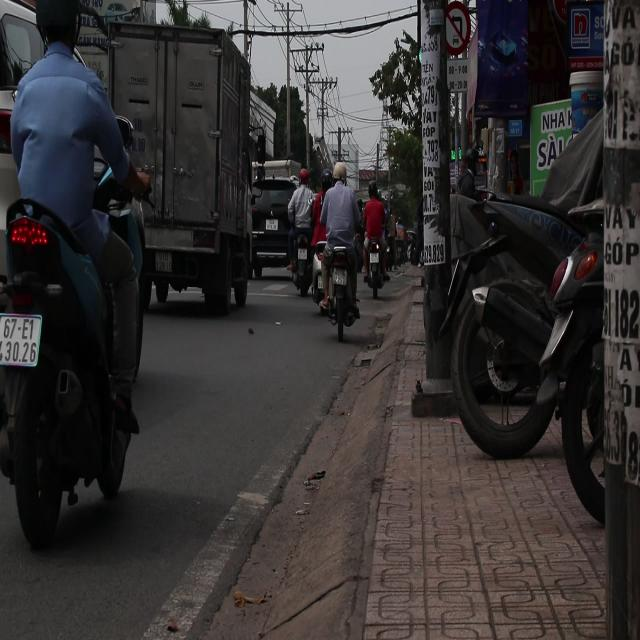car: (252, 159, 303, 278)
motorbike: (0, 179, 142, 545), (314, 237, 362, 340), (361, 224, 393, 318)
truck: (97, 19, 261, 321)
